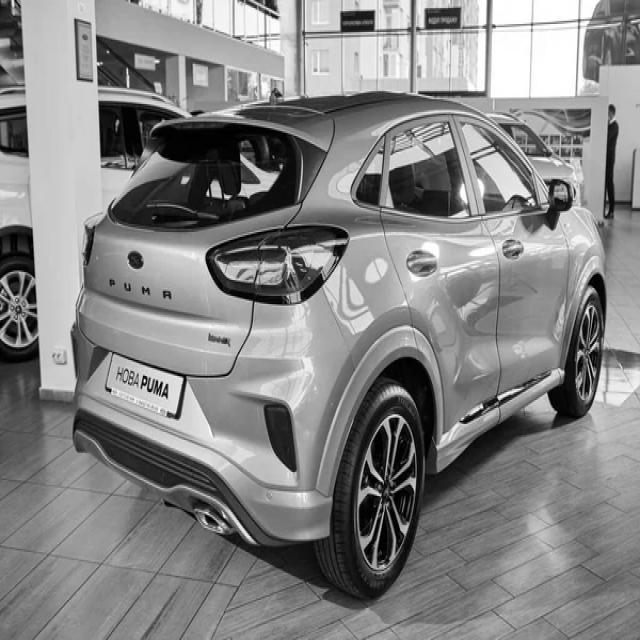Car: (71, 91, 608, 599)
